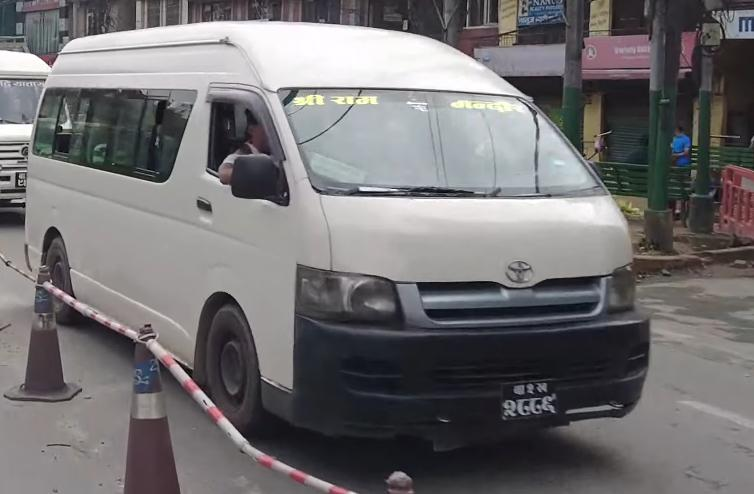micro_bus: (24, 16, 654, 459), (0, 40, 56, 212)
